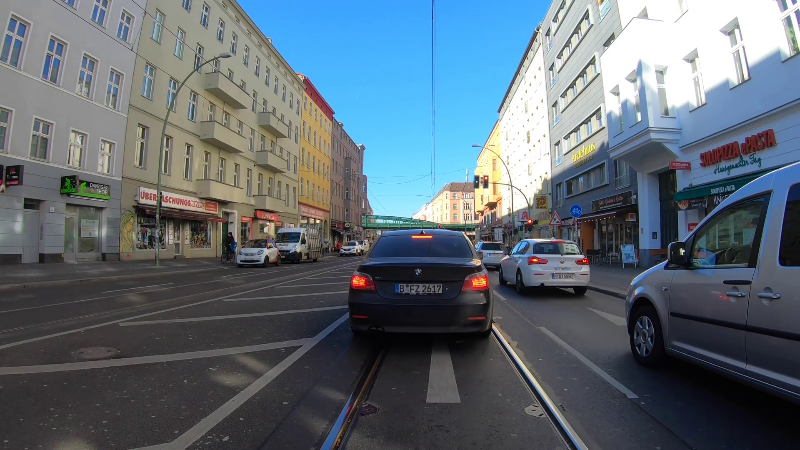Plate: (390, 282, 445, 294), (551, 272, 574, 280)
